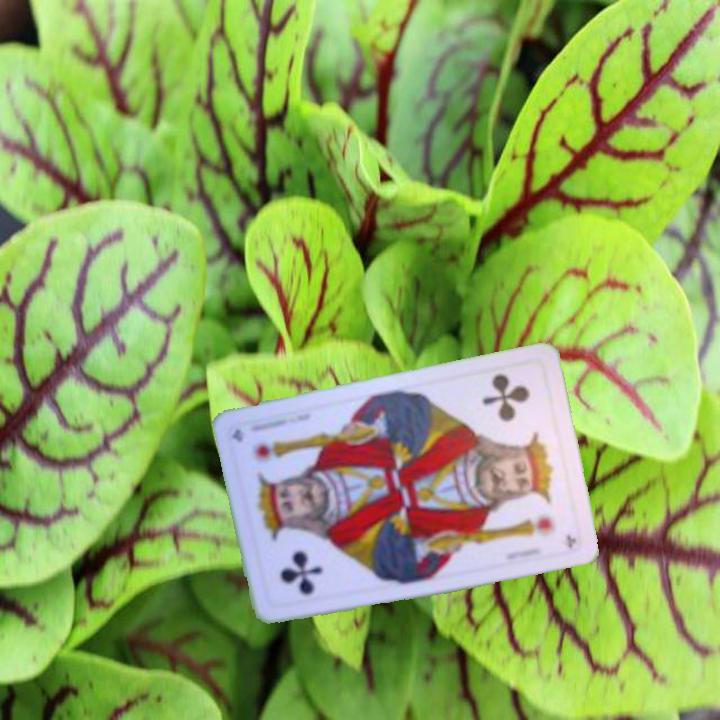c_k.png: (460, 358, 564, 473), (249, 499, 352, 613)
